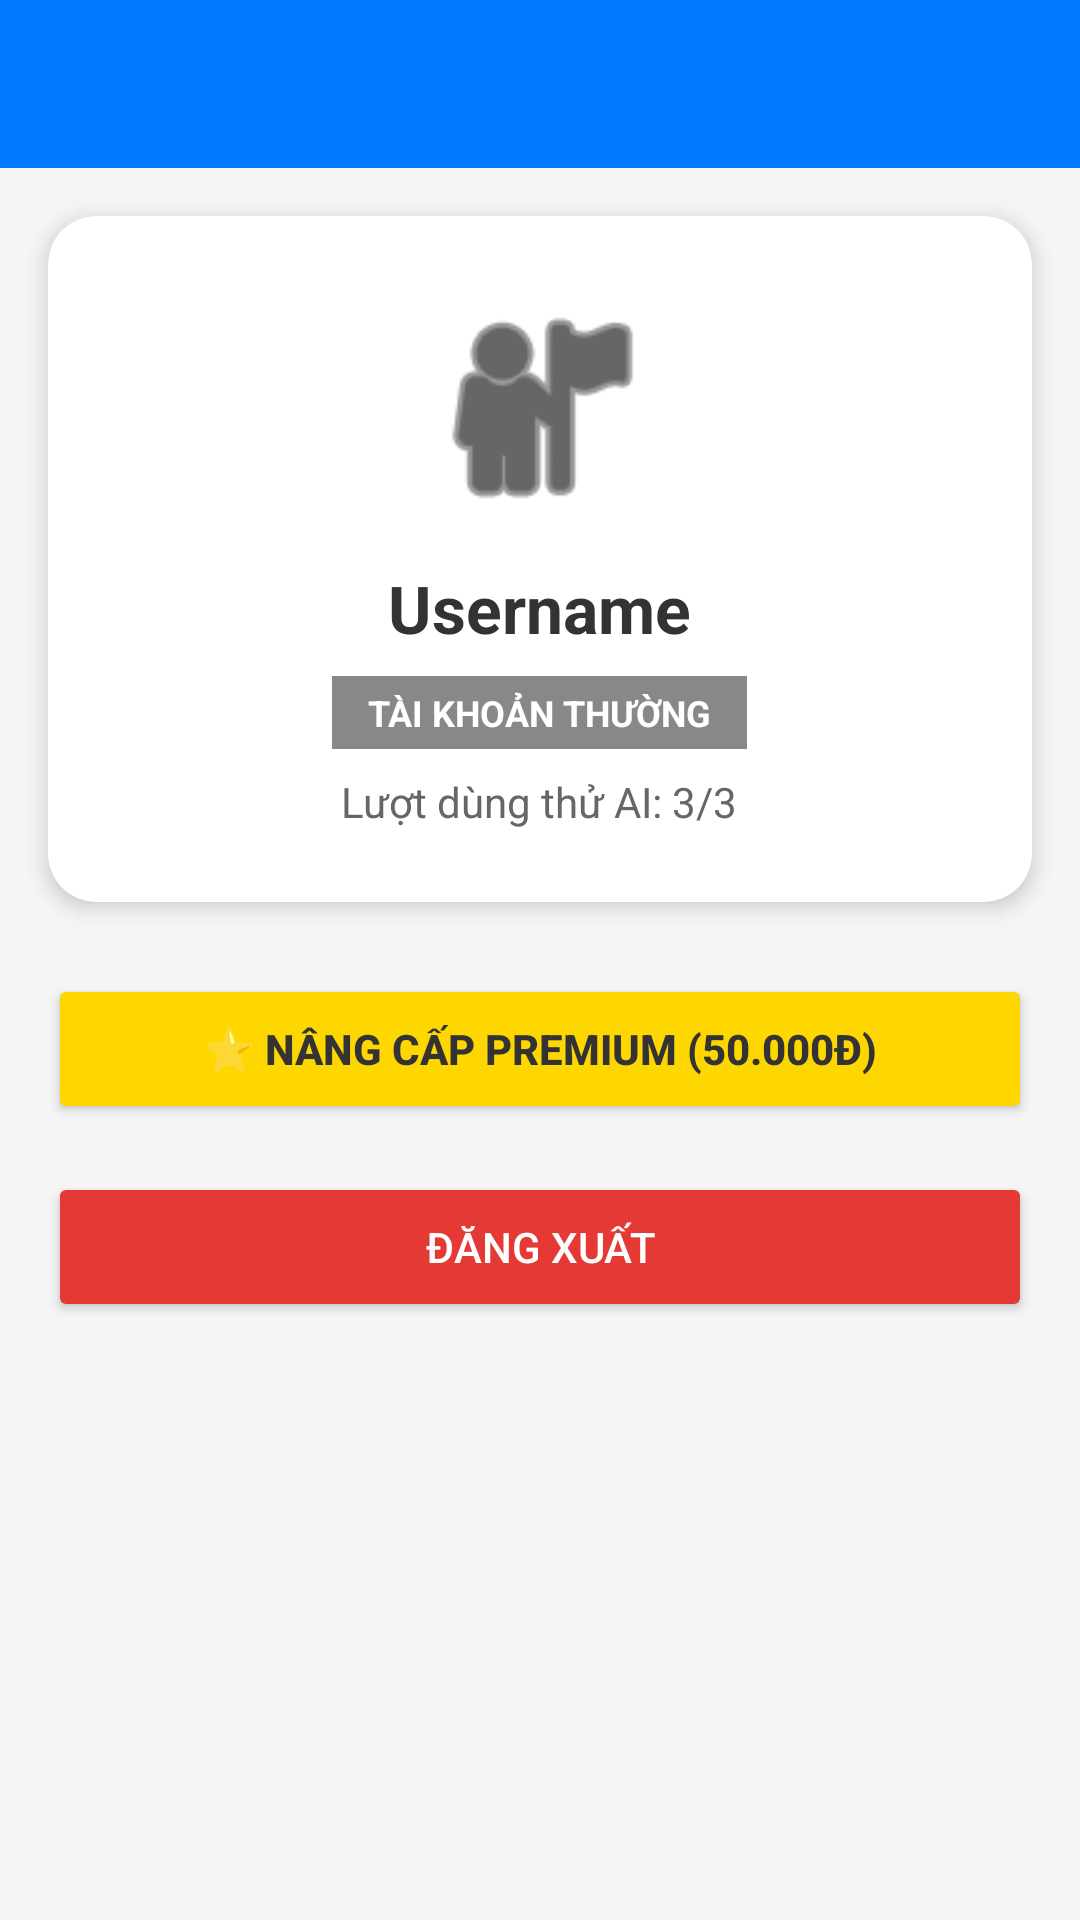

Named icons in this screenshot (1080 × 1920) and their centers, (x=x, y=y):
myplaces: (x=542, y=408)
